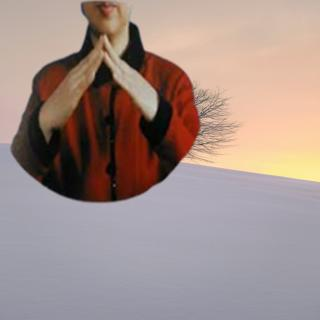HOME: (45, 33, 158, 126)
